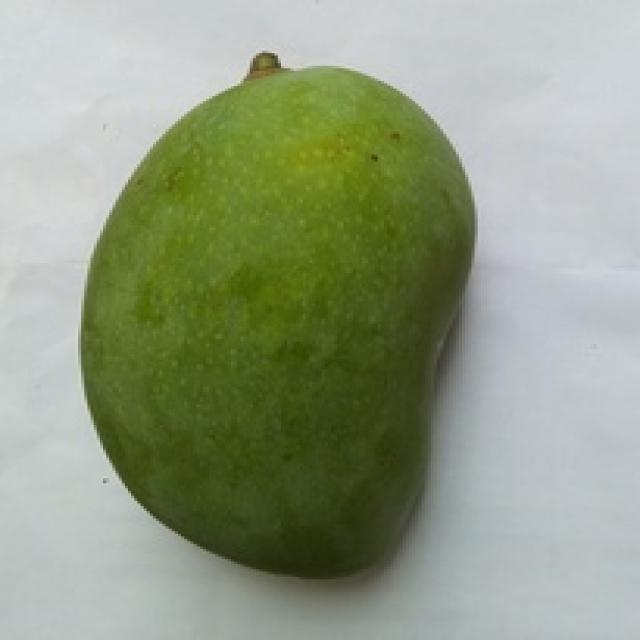Mango: (84, 56, 471, 574)
